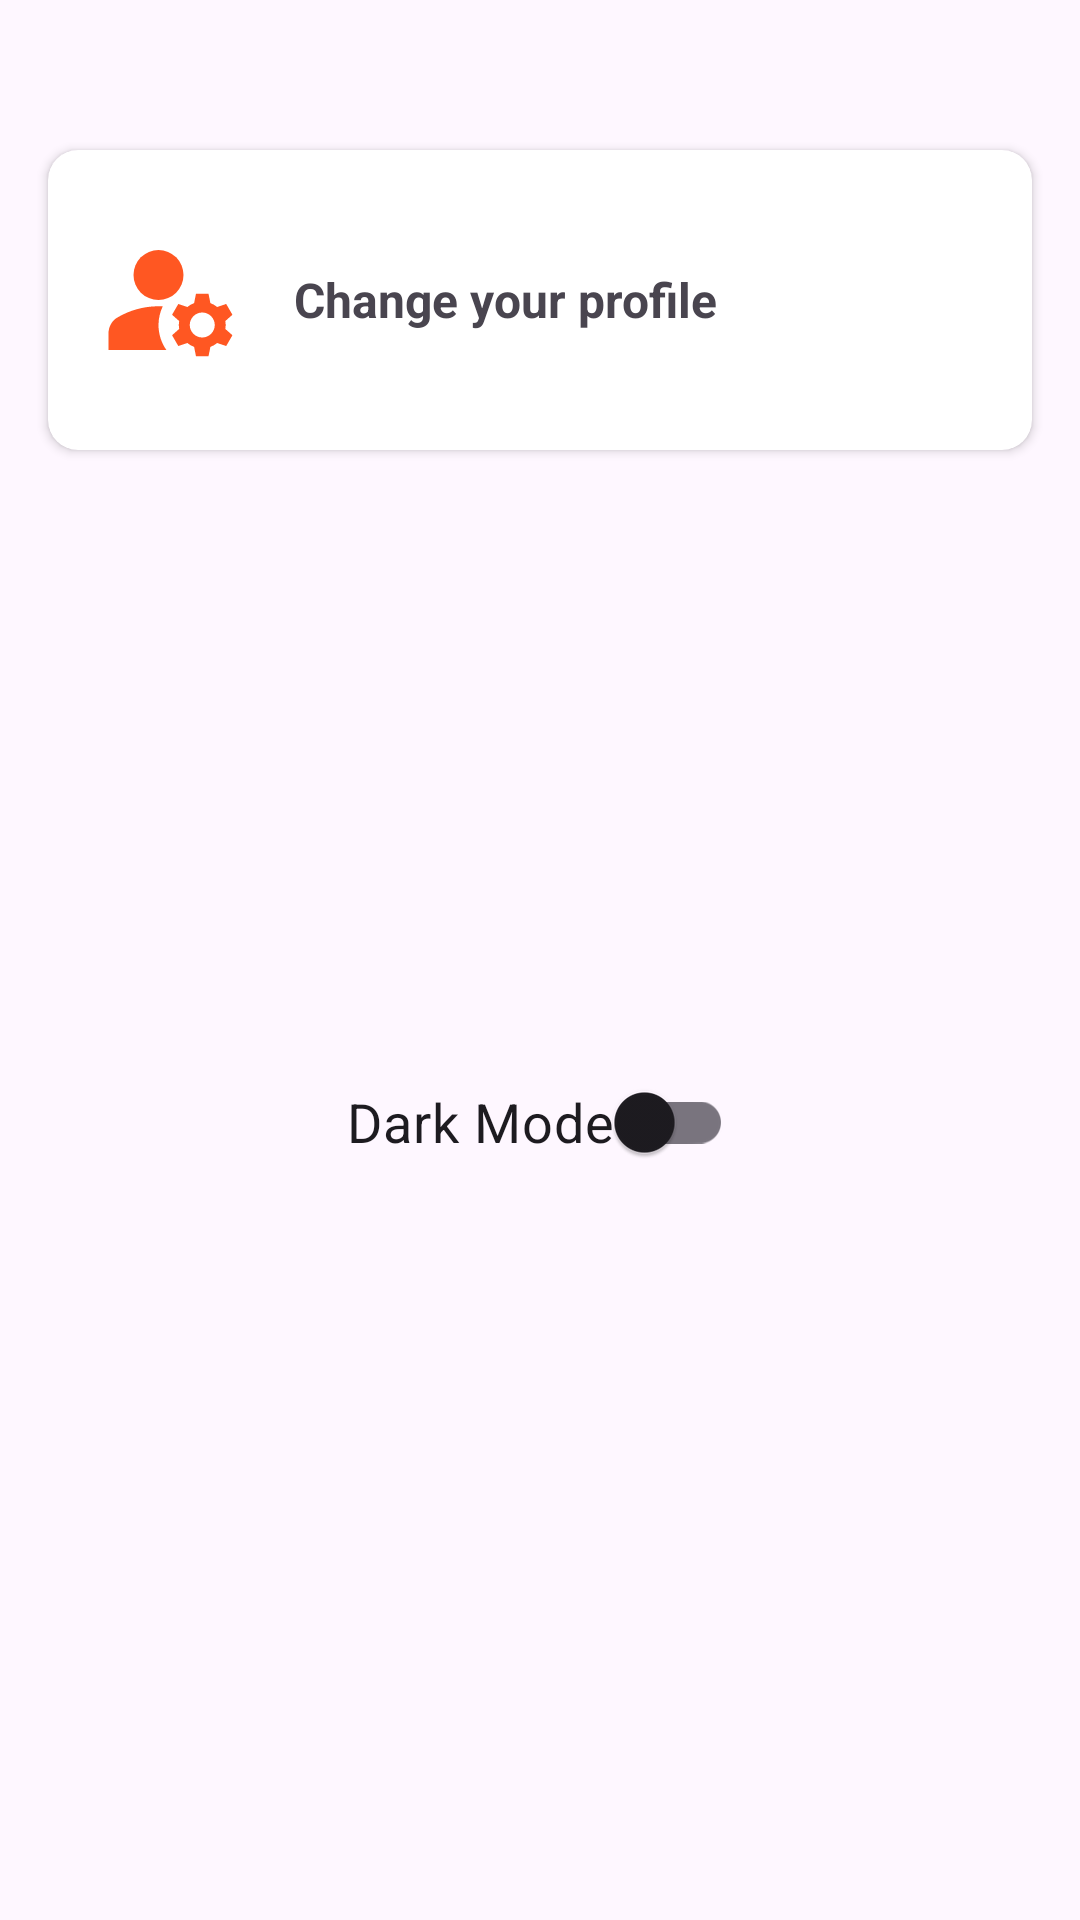

Icon click points for this 1080*1920 phone screenshot, format point (x, y):
manage accounts: point (170, 303)
